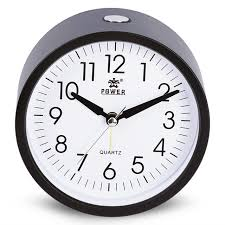alarm_clock: (12, 5, 208, 217), (12, 5, 203, 217), (12, 15, 203, 217), (18, 15, 203, 217)
